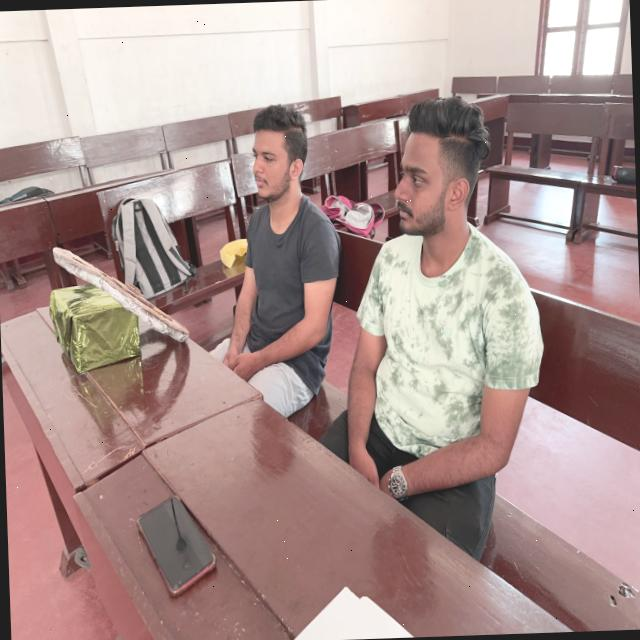Helmet: (364, 226, 536, 498), (240, 198, 340, 408)
